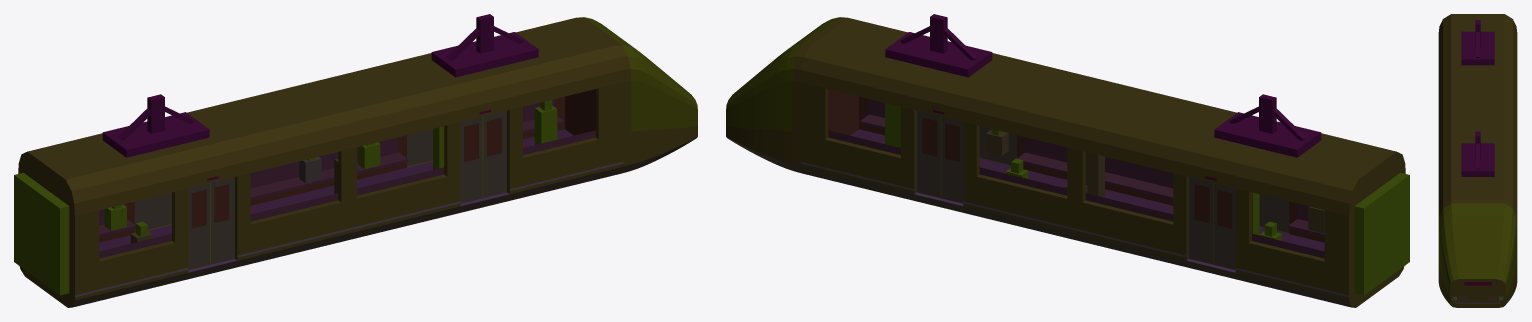
The model's file is monorail_end.glb.
3 views of the same model, side by side, from view 1: azimuth 30°, elevation 25°; view 2: azimuth 150°, elevation 25°; view 3: azimuth 270°, elevation 25° (orthographic). The views are drawn at different scales.
Parts seen in each view (by area): view 1: monorail_end; view 2: monorail_end; view 3: monorail_end.
Part boxes in pixels (bbox=[...]): monorail_end: bbox=[14, 14, 697, 307]; monorail_end: bbox=[726, 14, 1409, 307]; monorail_end: bbox=[1438, 14, 1517, 307].
Size of the model in its own units: 16.96 by 4.25 by 2.61.
